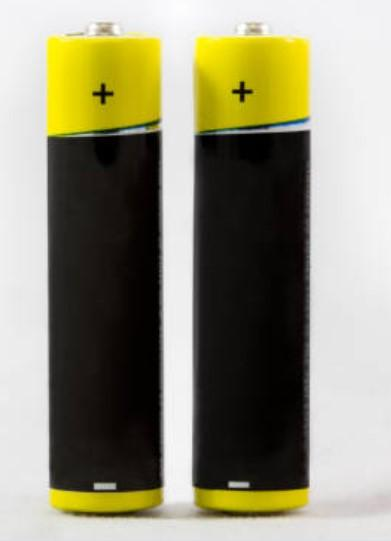Battery: (193, 22, 310, 514), (47, 21, 163, 514)
